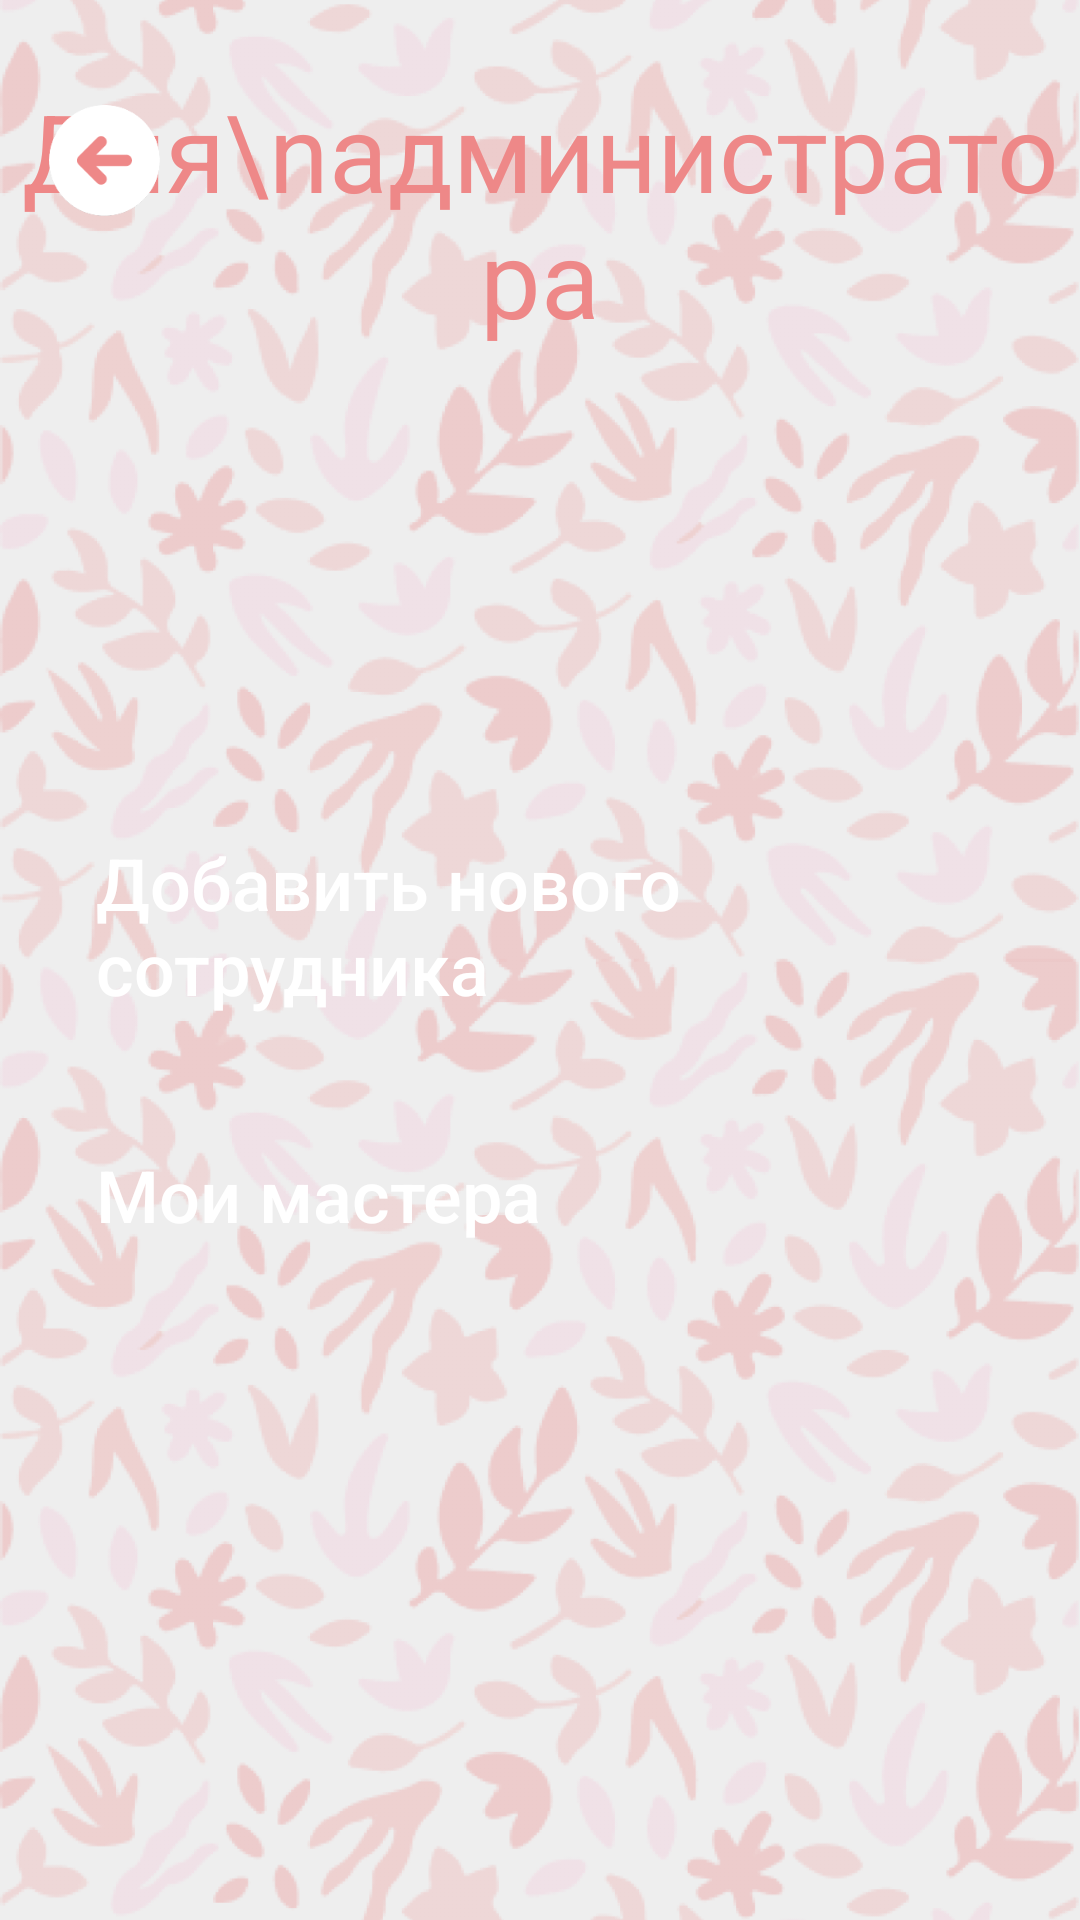

Icon click points for this 1080w x 1920h phone screenshot, format point (x, y):
back arrow: point (104, 160)
